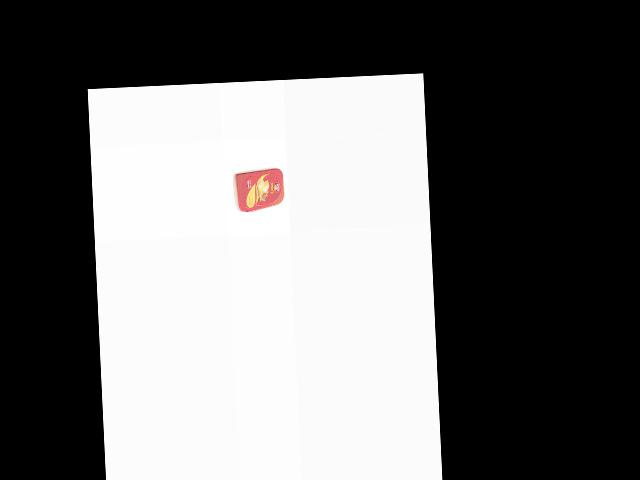cheese: (232, 166, 287, 212)
